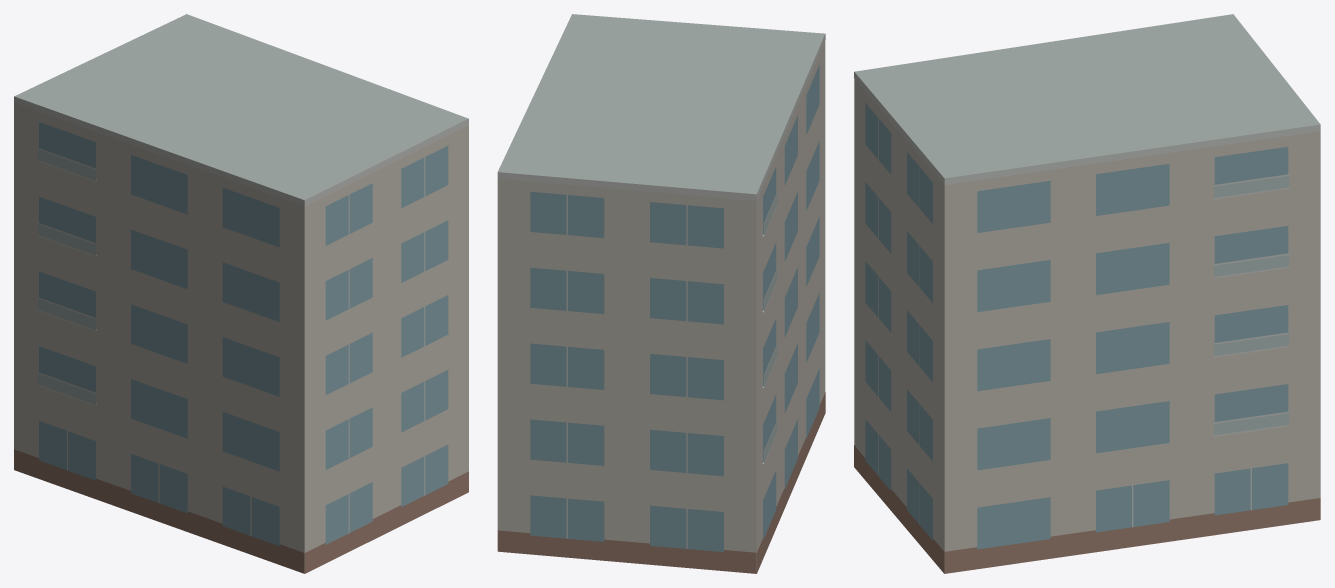
Rendered from survey-upis-32863699.glb.
3 views of the same model, side by side, from view 1: azimuth 30°, elevation 25°; view 2: azimuth 150°, elevation 25°; view 3: azimuth 270°, elevation 25° (orthographic). The views are drawn at different scales.
Parts seen in each view (by area): view 1: survey-upis-32863699.tmp; view 2: survey-upis-32863699.tmp; view 3: survey-upis-32863699.tmp.
Boxes of the visible parts, x1=… form: survey-upis-32863699.tmp: x1=14, y1=14, x2=468, y2=573; survey-upis-32863699.tmp: x1=497, y1=14, x2=825, y2=573; survey-upis-32863699.tmp: x1=854, y1=14, x2=1320, y2=573.
Size of the model in its own units: 12.85 by 14.4 by 15.41.
